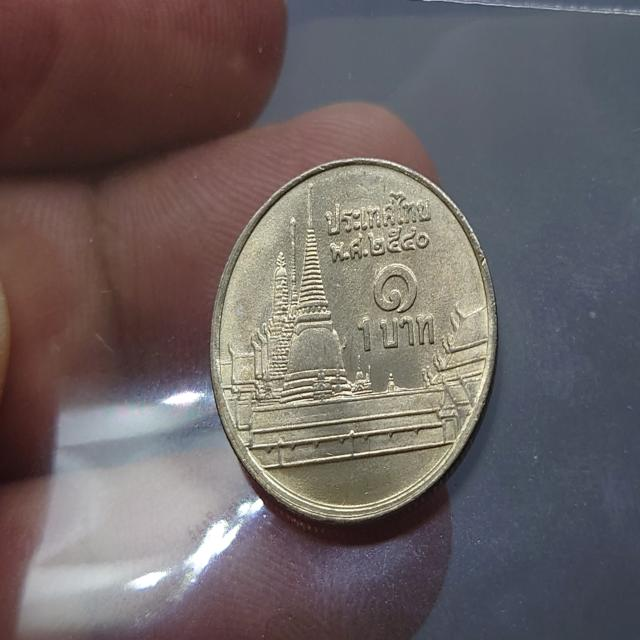1 Bath: (205, 149, 506, 542)
